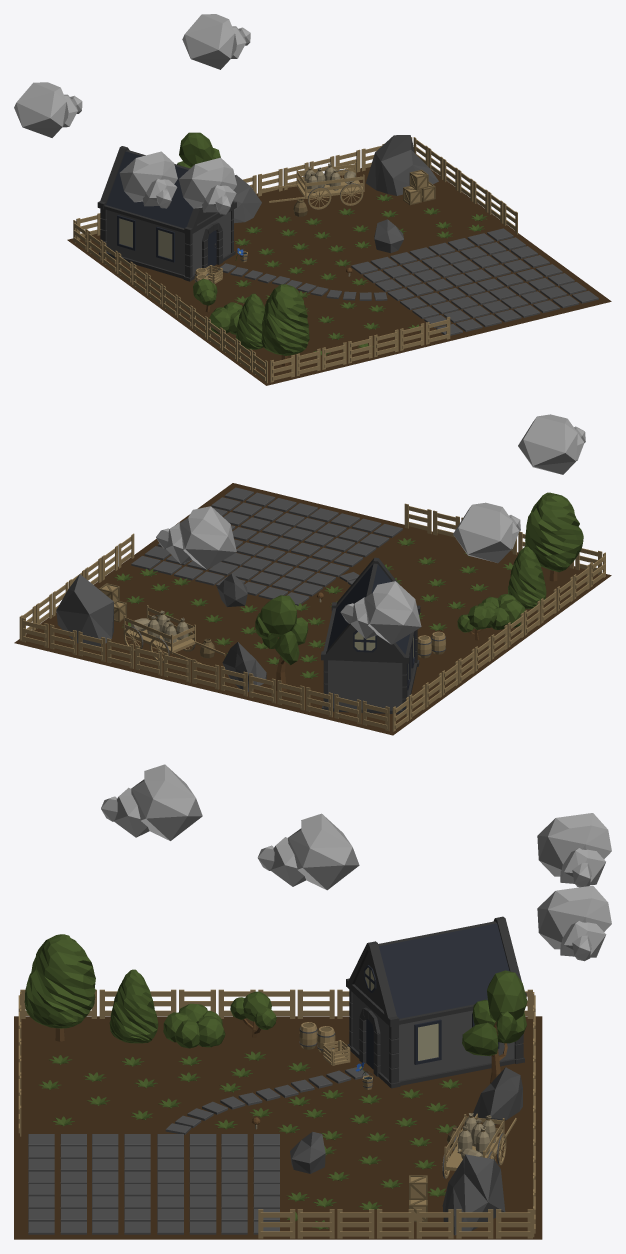
Rendered from environment.glb.
3 renders of one model, top to bottom at view 1: azimuth 30°, elevation 25°; view 2: azimuth 150°, elevation 25°; view 3: azimuth 270°, elevation 25°, orthographic. The views are drawn at different scales.
Visible parts, largest first — view 1: node_id5, node_id38, node_id23, node_id586, node_id589, node_id583, node_id53, node_id17, node_id68, node_id35, node_id26, node_id20 (+3 smaller); view 2: node_id5, node_id38, node_id23, node_id589, node_id586, node_id583, node_id53, node_id17, node_id26, node_id35, node_id68, node_id20 (+18 smaller); view 3: node_id5, node_id38, node_id23, node_id53, node_id583, node_id589, node_id586, node_id26, node_id17, node_id35, node_id32, node_id20 (+11 smaller).
Boxes of the visible parts, x1=… form: node_id5: x1=67, y1=167, x2=611, y2=385; node_id38: x1=97, y1=146, x2=236, y2=281; node_id23: x1=261, y1=284, x2=309, y2=365; node_id586: x1=14, y1=82, x2=82, y2=137; node_id589: x1=182, y1=14, x2=250, y2=69; node_id583: x1=178, y1=157, x2=236, y2=214; node_id53: x1=119, y1=151, x2=177, y2=208; node_id17: x1=366, y1=135, x2=438, y2=195; node_id68: x1=260, y1=162, x2=364, y2=202; node_id35: x1=236, y1=293, x2=264, y2=349; node_id26: x1=177, y1=132, x2=220, y2=168; node_id20: x1=233, y1=175, x2=261, y2=223; node_id5: x1=14, y1=483, x2=611, y2=735; node_id38: x1=321, y1=557, x2=420, y2=714; node_id23: x1=525, y1=492, x2=583, y2=581; node_id589: x1=156, y1=506, x2=236, y2=569; node_id586: x1=340, y1=581, x2=421, y2=644; node_id583: x1=518, y1=414, x2=585, y2=474; node_id53: x1=453, y1=502, x2=520, y2=562; node_id17: x1=56, y1=574, x2=113, y2=646; node_id26: x1=255, y1=595, x2=308, y2=691; node_id35: x1=508, y1=546, x2=546, y2=609; node_id68: x1=123, y1=605, x2=225, y2=663; node_id20: x1=222, y1=642, x2=266, y2=691; node_id5: x1=14, y1=1016, x2=542, y2=1239; node_id38: x1=346, y1=916, x2=526, y2=1088; node_id23: x1=24, y1=934, x2=95, y2=1041; node_id53: x1=257, y1=813, x2=359, y2=890; node_id583: x1=101, y1=764, x2=202, y2=840; node_id589: x1=537, y1=885, x2=611, y2=961; node_id586: x1=537, y1=813, x2=611, y2=887; node_id26: x1=462, y1=970, x2=527, y2=1083; node_id17: x1=442, y1=1154, x2=505, y2=1235; node_id35: x1=109, y1=969, x2=158, y2=1043; node_id32: x1=163, y1=1003, x2=225, y2=1048; node_id20: x1=473, y1=1067, x2=522, y2=1124.
Bounding box in the file's own units: 0.5046 × 0.2377 × 0.5184.
195 materials, 195 textured.
